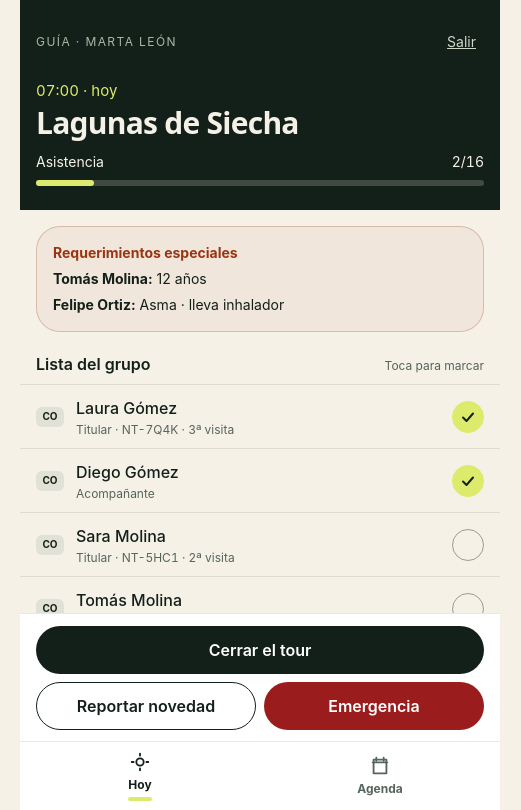
Scenario: acceso del equipo y paneles por rol › el guía marca asistencia tocando cada nombre
Expected: the text with test id "asistencia" reads "2/16", top-left (452, 152), bottom-right (484, 172)
What coordinates should you click on to do the following:
click the button "CO Sara Molina Titular · NT-5HC1 · 2ª visita"
I would click on:
 (121, 536)
Its box is top-left (20, 512), bottom-right (500, 576).
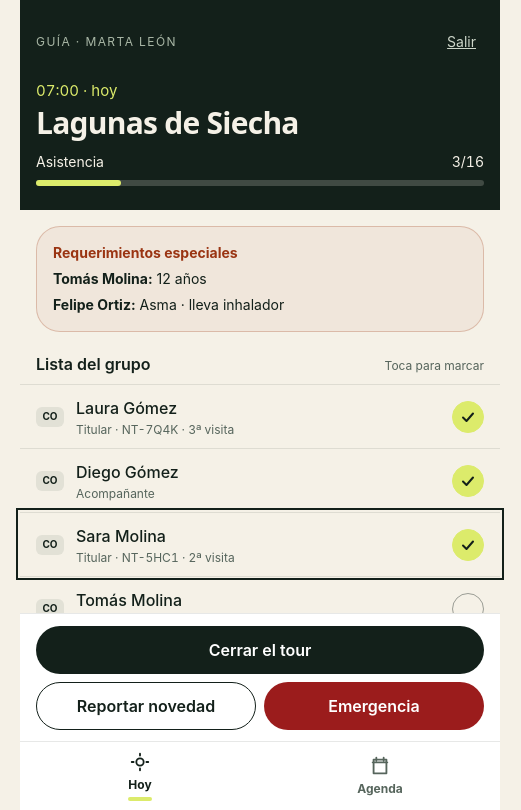
Result: the text with test id "asistencia" reads "3/16" at top-left (452, 152), bottom-right (484, 172)
